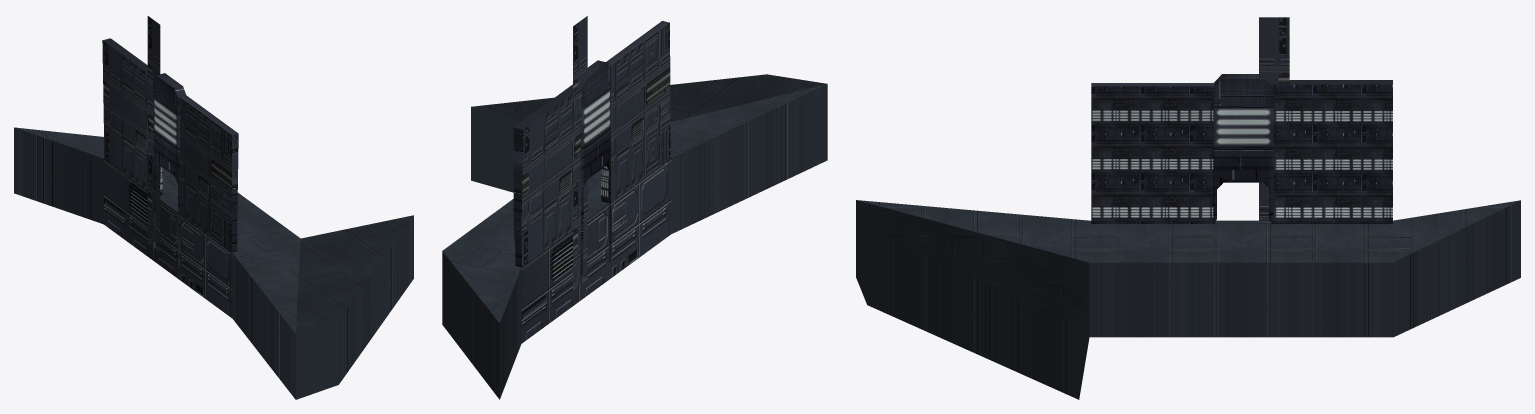
Rendered from bldg_lab_back_office.gltf.
3 renders of one model, left to right at view 1: azimuth 30°, elevation 25°; view 2: azimuth 150°, elevation 25°; view 3: azimuth 270°, elevation 25°, orthographic. The views are drawn at different scales.
Parts seen in each view (by area): view 1: cube14, postern_doorway2, lab_back_Wall_door_office_p1, lab_back_Wall_door_office_p2; view 2: cube14, postern_doorway2, lab_back_Wall_door_office_p1, lab_back_Wall_door_office_p2; view 3: cube14, postern_doorway2, lab_back_Wall_door_office_p2.
Boxes of the visible parts, x1,y1,x2,y2 form: cube14: (14,127,413,399); postern_doorway2: (102,38,238,266); lab_back_Wall_door_office_p1: (147,154,160,251); lab_back_Wall_door_office_p2: (147,16,160,76); cube14: (442,74,827,399); postern_doorway2: (513,21,670,284); lab_back_Wall_door_office_p1: (573,179,587,289); lab_back_Wall_door_office_p2: (573,16,587,91); cube14: (856,200,1520,399); postern_doorway2: (1091,74,1392,224); lab_back_Wall_door_office_p2: (1259,17,1289,83).
Size of the model in its own units: 27.02 by 29.27 by 62.05.
Materials: 4 (4 with a texture image).
